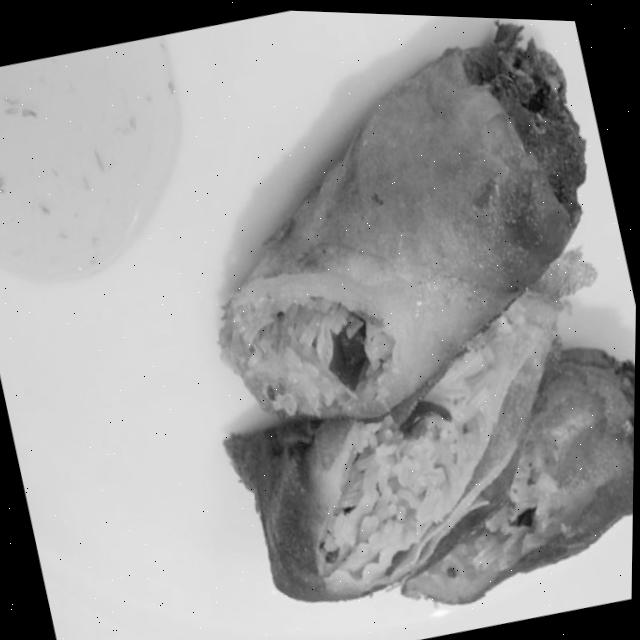鸡蛋料理: (110, 3, 640, 640)
